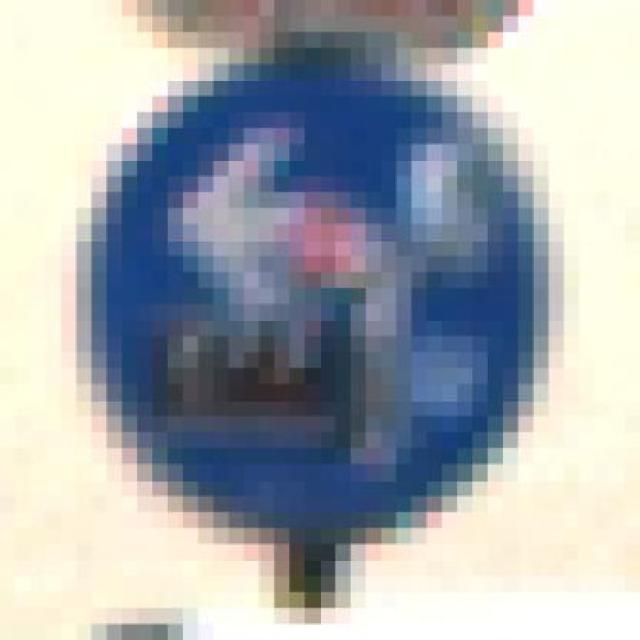Turn left ahead: (61, 41, 594, 538)
